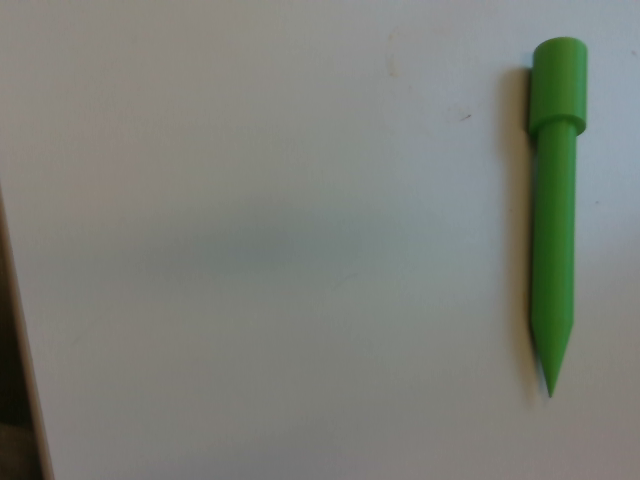Probe: (521, 31, 595, 408)
